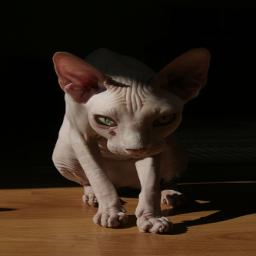catnose: (123, 146, 148, 156)
